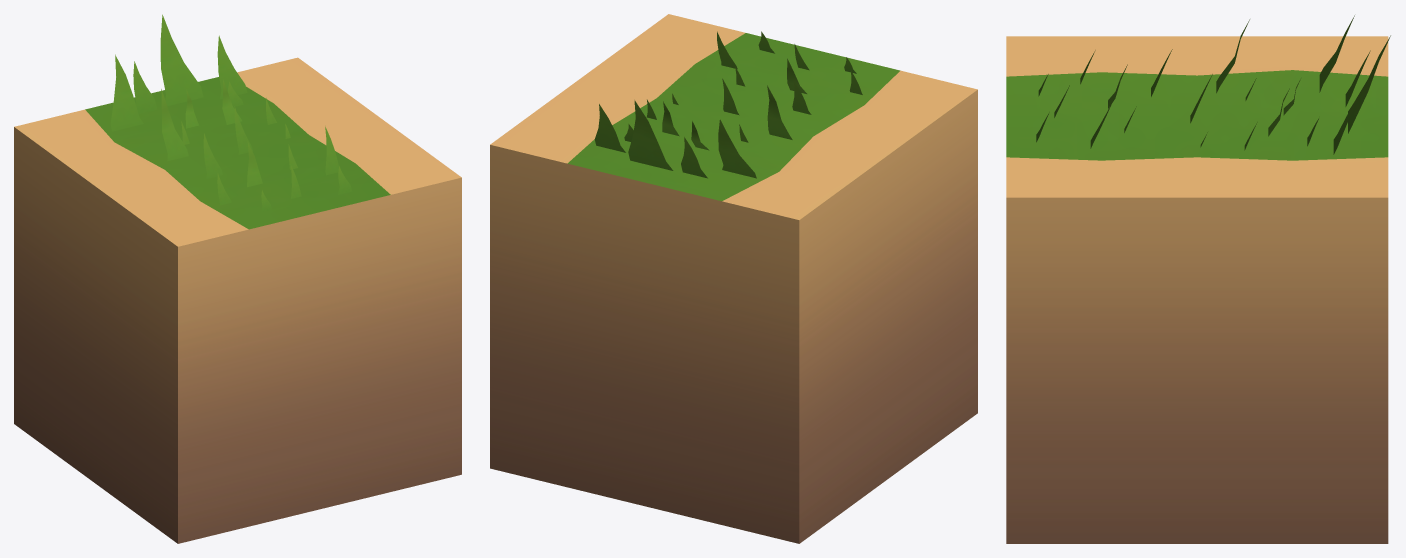
Rendered from twosidea m tile.fbx.
The picture shows the model from 3 angles, left to right: view 1: azimuth 30°, elevation 25°; view 2: azimuth 150°, elevation 25°; view 3: azimuth 270°, elevation 25°; orthographic projection. The views are drawn at different scales.
Parts seen in each view (by area): view 1: tsa_m_tile, tsa_m_grass; view 2: tsa_m_tile, tsa_m_grass; view 3: tsa_m_tile, tsa_m_grass.
Part boxes in pixels (x1=…): tsa_m_tile: x1=14, y1=57, x2=461, y2=543; tsa_m_grass: x1=110, y1=14, x2=352, y2=211; tsa_m_tile: x1=490, y1=14, x2=977, y2=543; tsa_m_grass: x1=594, y1=31, x2=862, y2=178; tsa_m_tile: x1=1006, y1=36, x2=1388, y2=543; tsa_m_grass: x1=1036, y1=15, x2=1390, y2=154.
Size of the model in its own units: 10 by 12.53 by 10.09.
